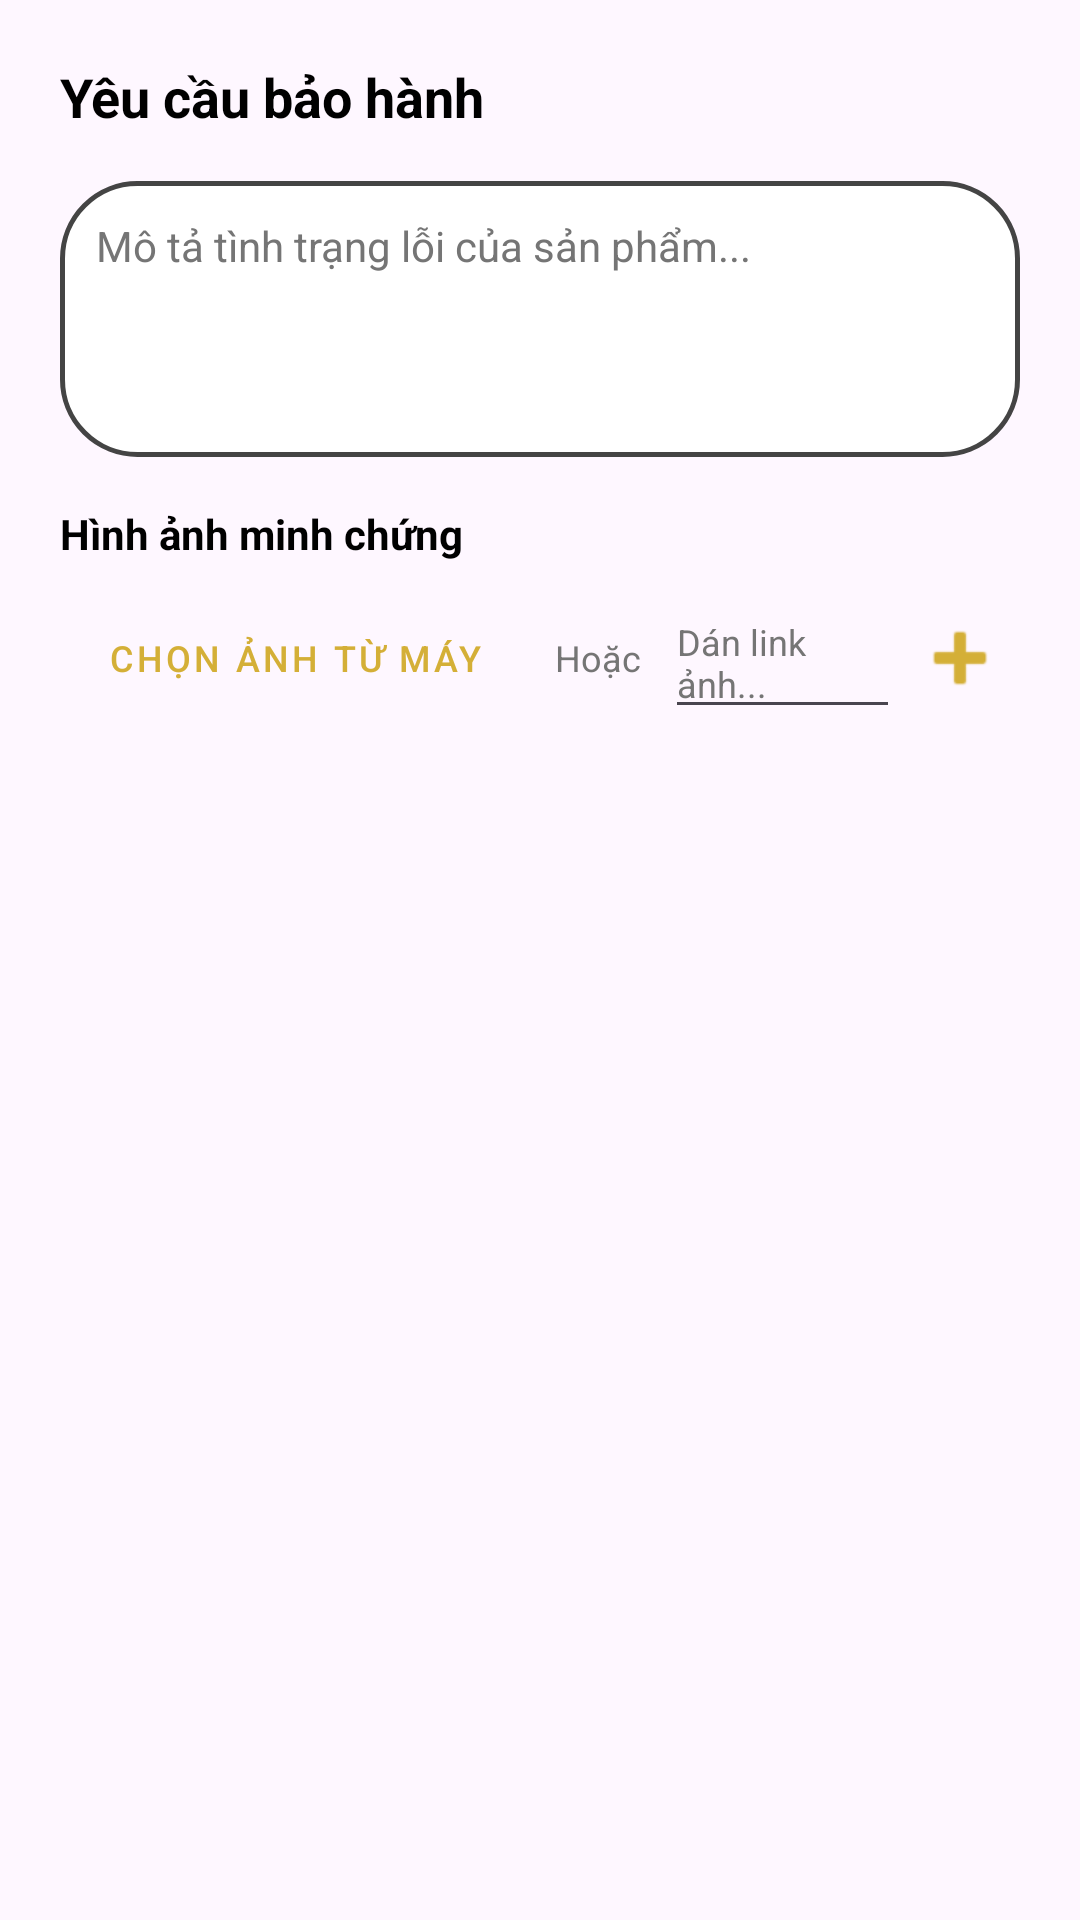

Named icons in this screenshot (1080w x 1920h) and their bounding boxes, [left=x1, top=y1, right=x2, bottom=y2]:
add: [left=933, top=631, right=987, bottom=685]
